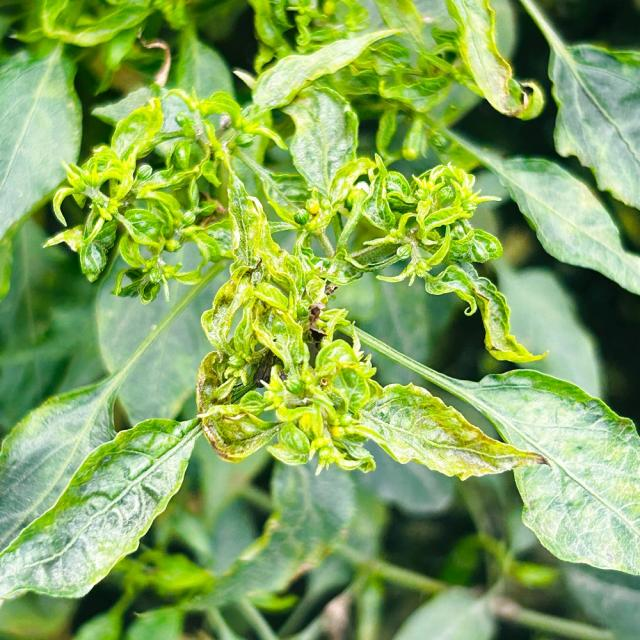Chilli_Leaf_Curl: (1, 2, 638, 614), (336, 319, 639, 577), (194, 174, 384, 476), (42, 93, 225, 304), (0, 414, 204, 602), (469, 367, 639, 576), (354, 380, 549, 481), (249, 26, 403, 113)
